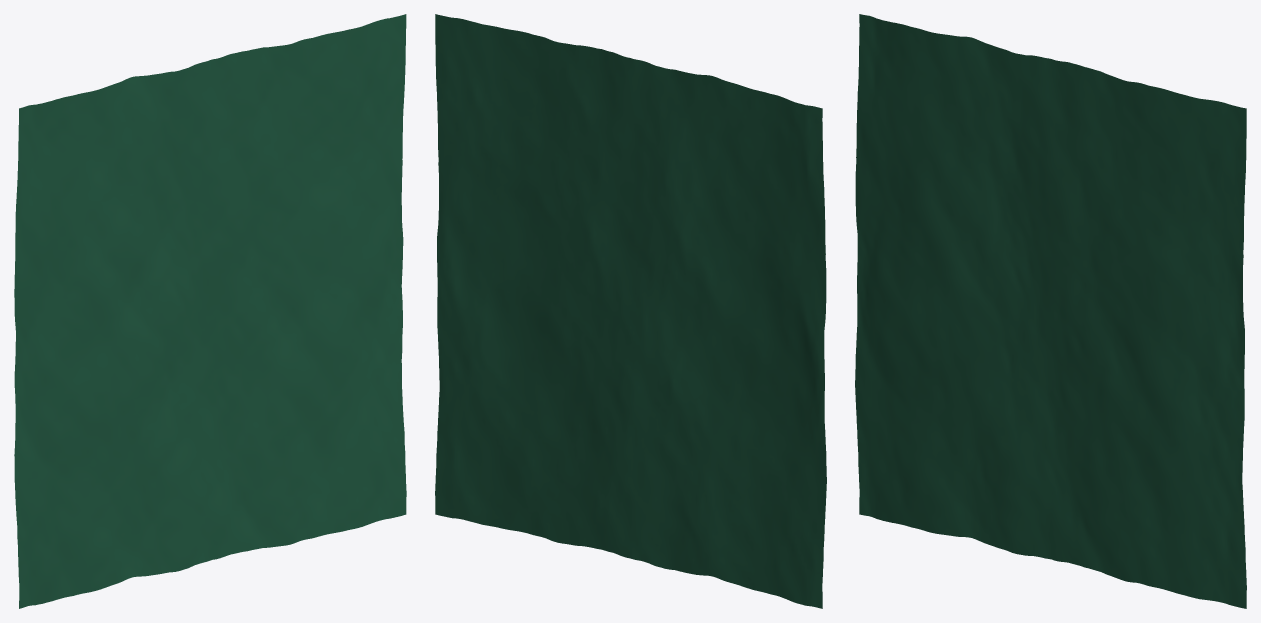
The model's file is mar.fbx.
3 renders of one model, left to right at view 1: azimuth 30°, elevation 25°; view 2: azimuth 150°, elevation 25°; view 3: azimuth 330°, elevation 25°, orthographic.
Visible parts, largest first — view 1: Plane; view 2: Plane; view 3: Plane.
Boxes of the visible parts, x1=… form: Plane: x1=14, y1=14, x2=406, y2=608; Plane: x1=435, y1=14, x2=826, y2=608; Plane: x1=855, y1=14, x2=1246, y2=608.
Bounding box in the file's own units: 17320 × 21370 × 302.
